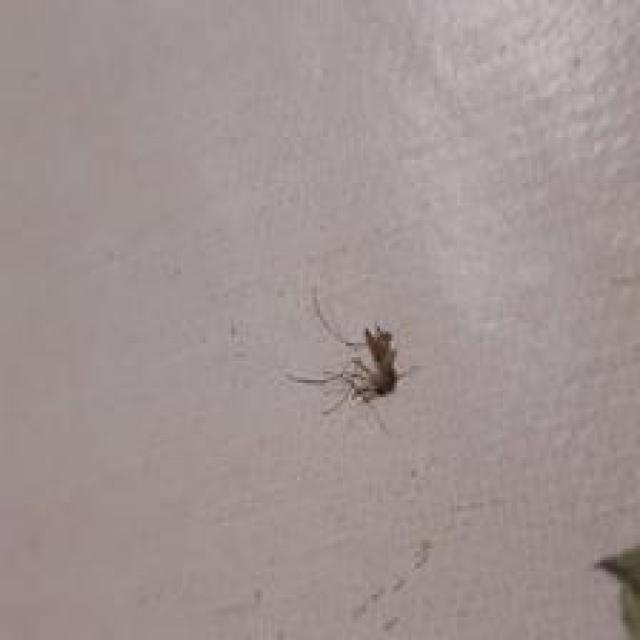Culex: (284, 284, 416, 430)
